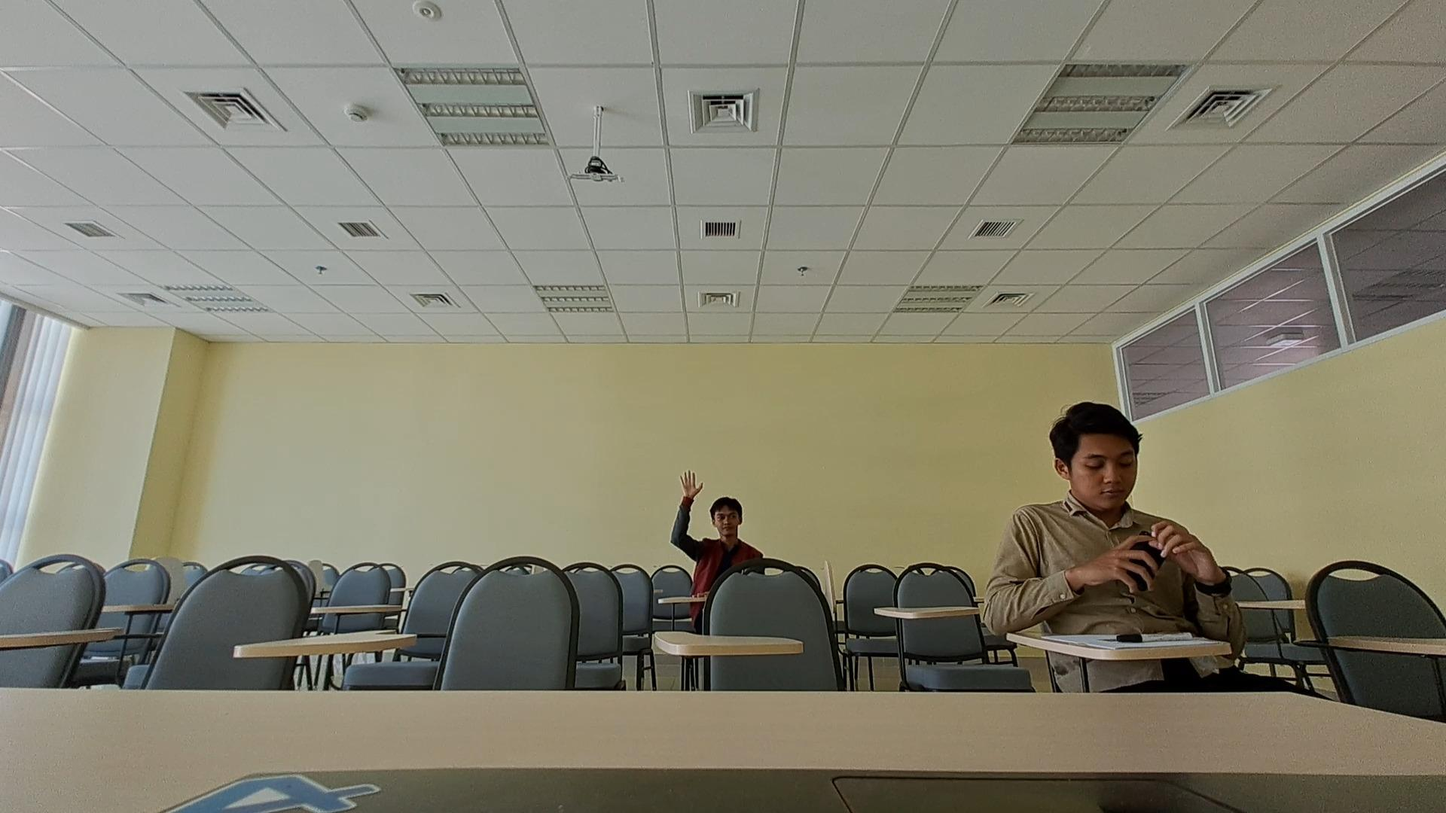phone: (980, 401, 1234, 645)
study: (671, 467, 763, 602)
